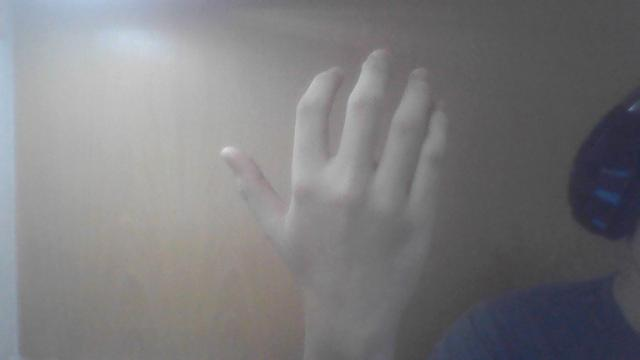backword: (218, 46, 450, 358)
